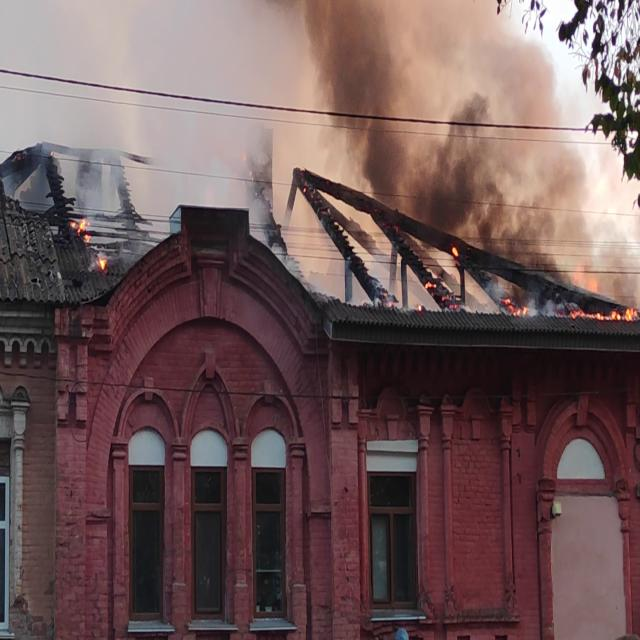fire: (559, 234, 637, 327)
smoke: (316, 4, 488, 243)
